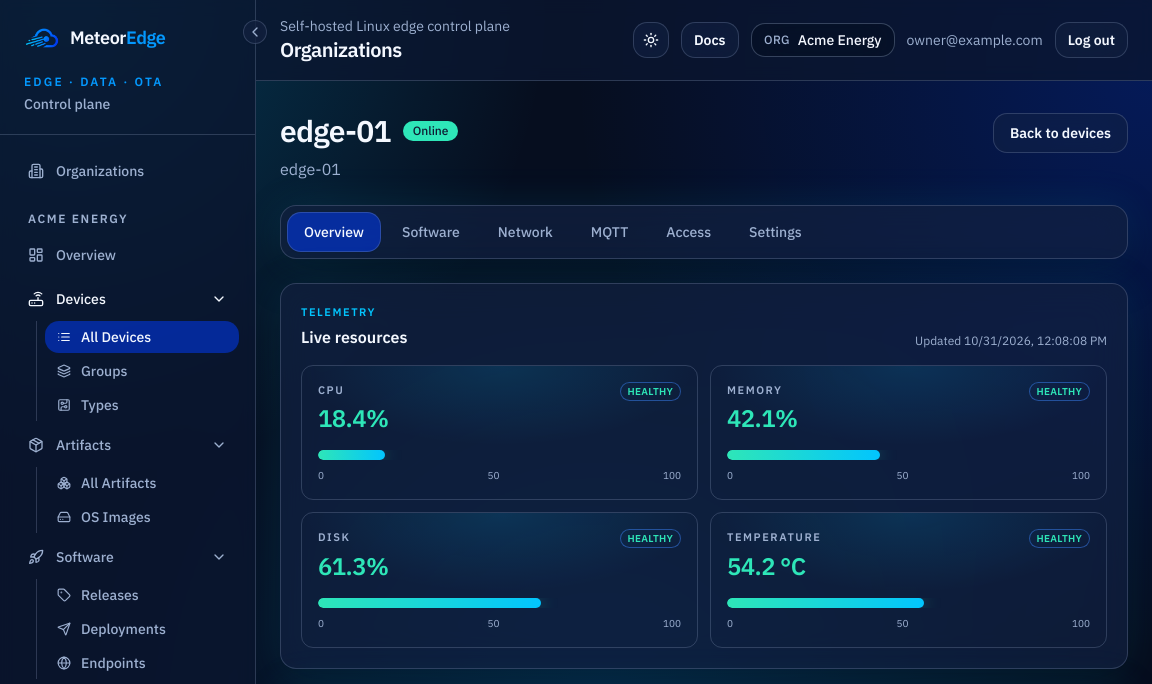
Test: Device detail › rotates the credential and shows it once
Click the tab "Settings": (775,232) [732,212,819,252]
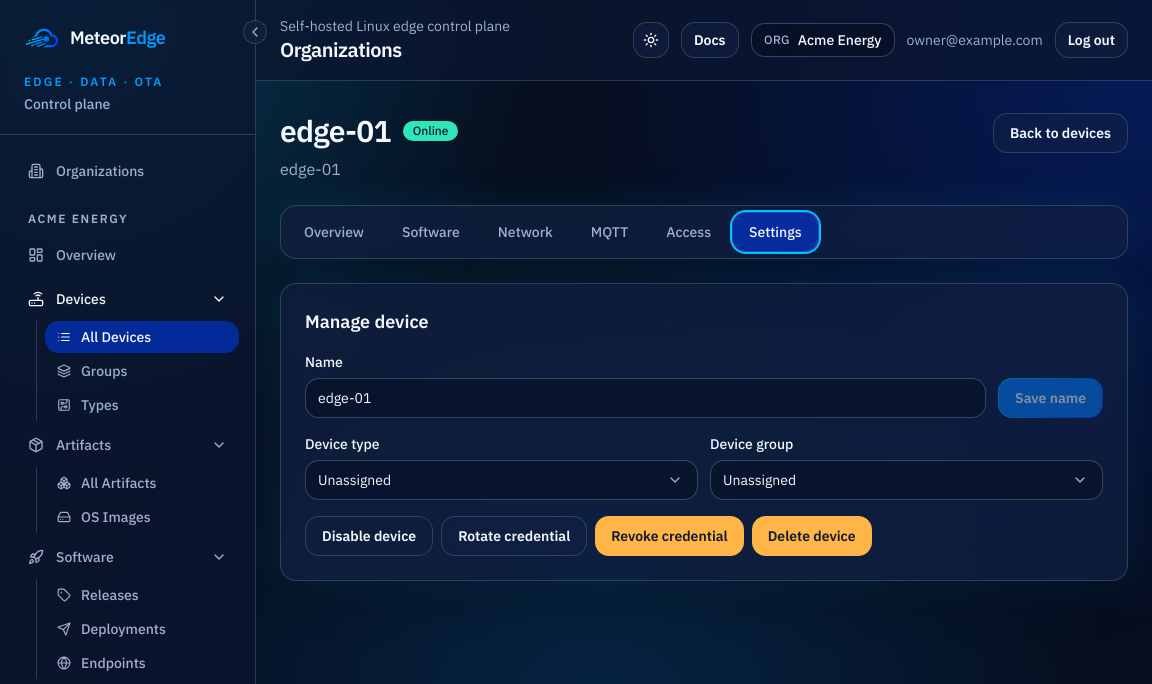
Click the button "Rotate credential": (514,536) [441,516,587,556]
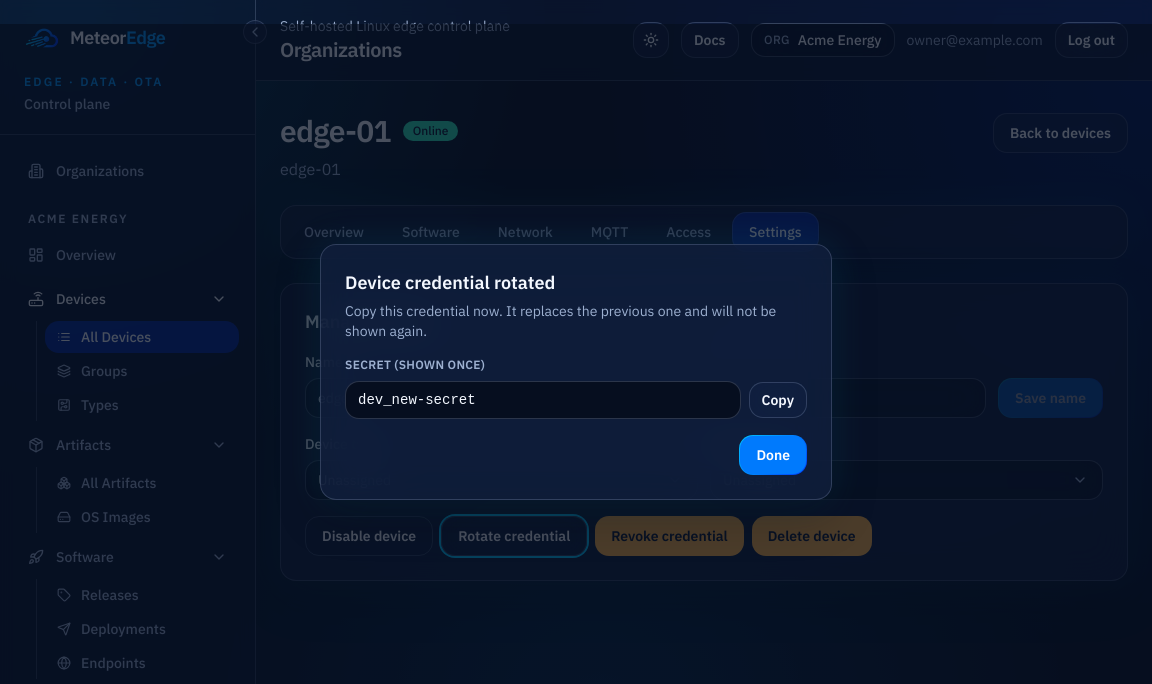
Result: the text "dev_new-secret" is shown at [345,381,740,419]
